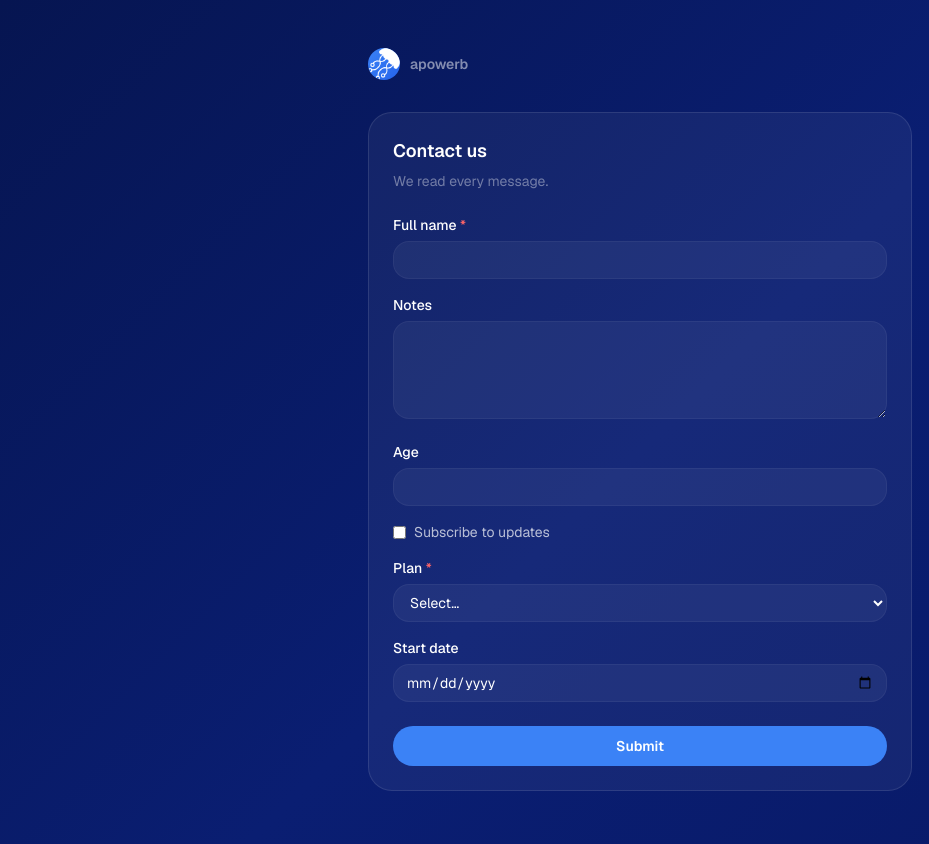
Test: WorkflowFormView › shows the server's 422 detail without losing the entered values
The image size is (929, 844).
Expected: the heading "Contact us" is shown, x1=393 y1=139 x2=487 y2=162
Type "Jamie Doe" into the field labelled "Full name *" at [640, 260], box x1=393 y1=241 x2=887 y2=279
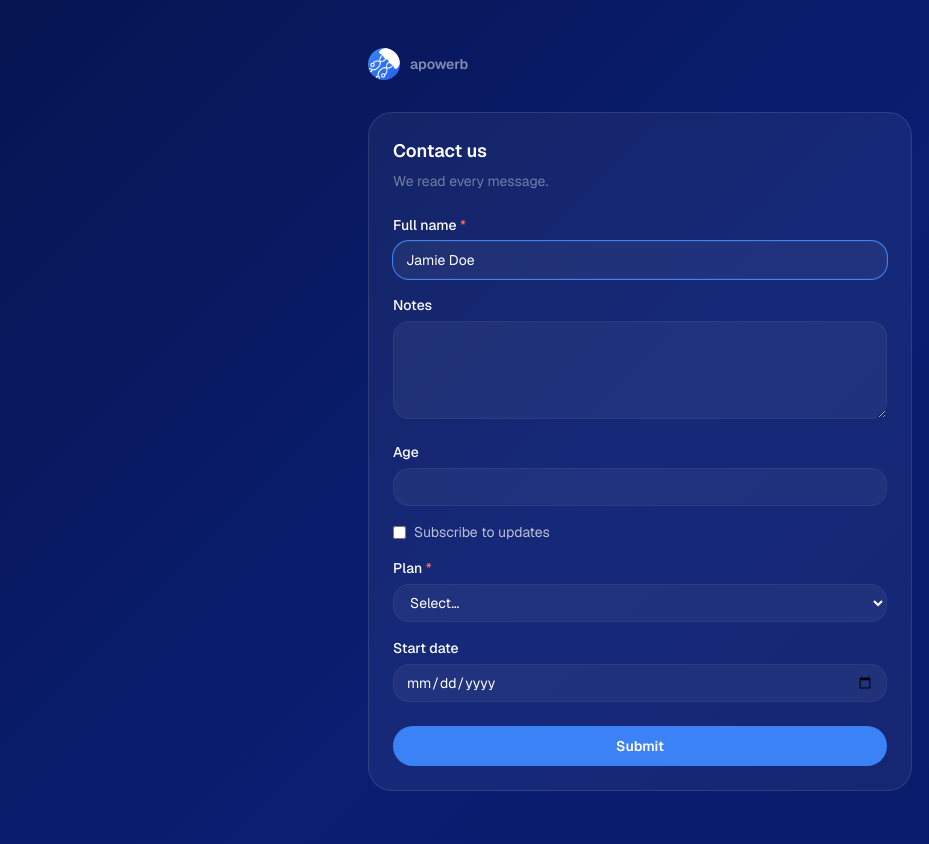
Select "pro" in the dropdown labelled "Plan *" at [640, 603], box x1=393 y1=584 x2=887 y2=622
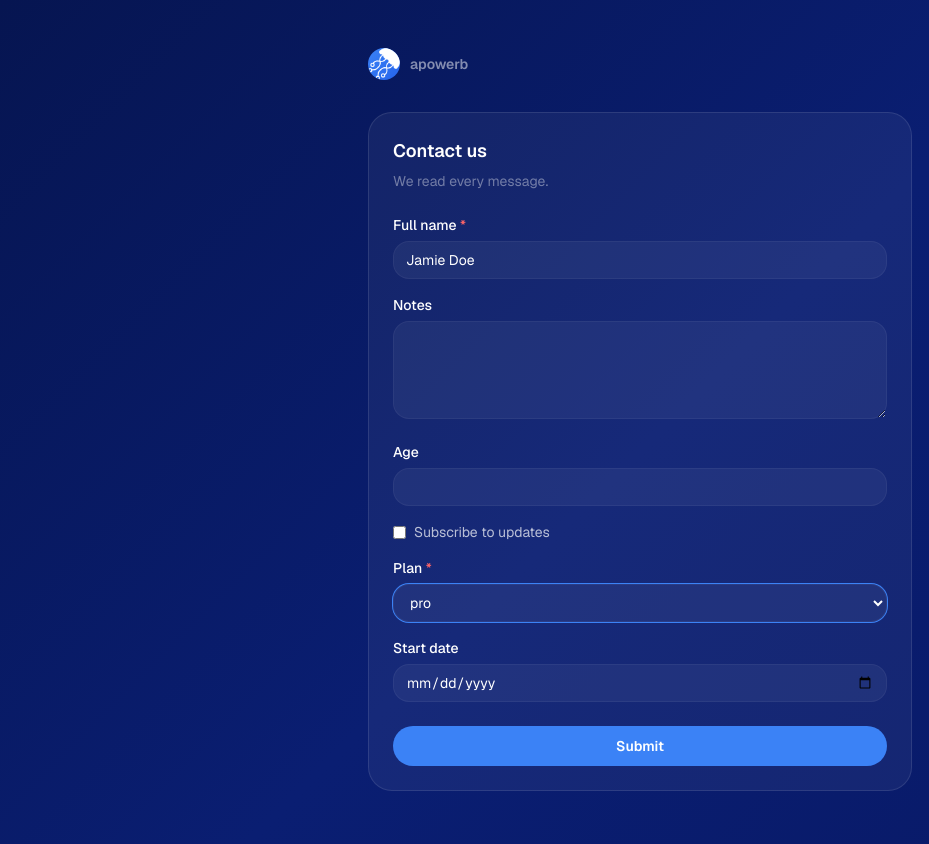
Click the button "Submit" at [640, 746], box x1=393 y1=726 x2=887 y2=766
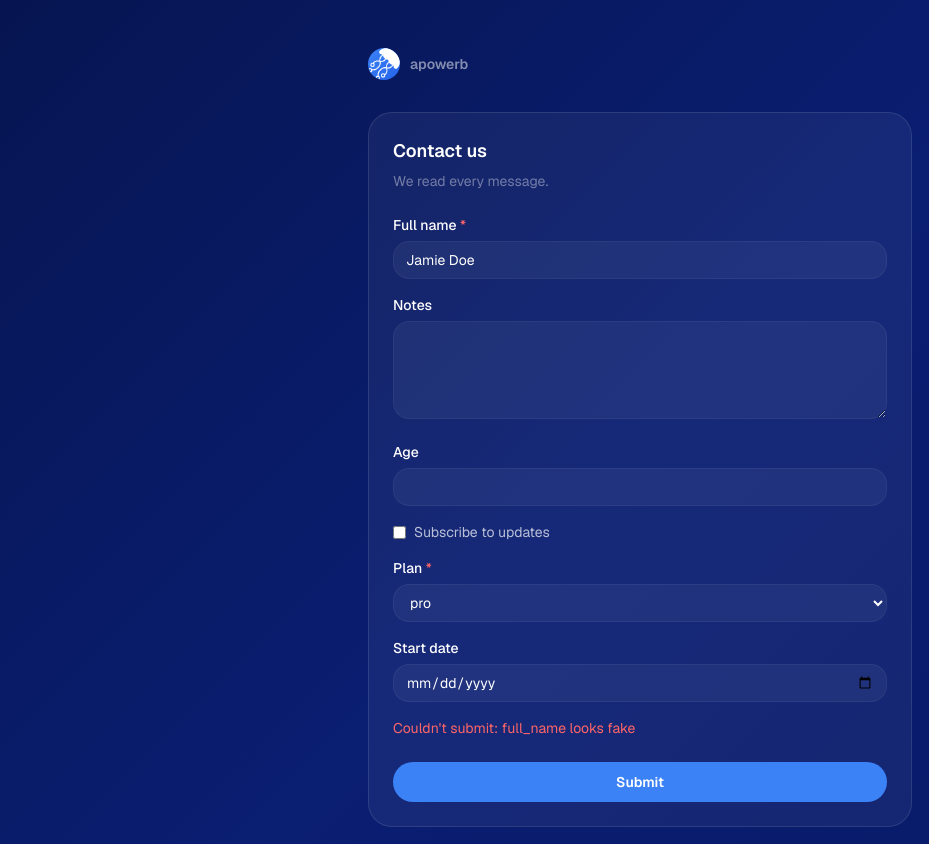
Expected: the text "Couldn't submit: full_name looks fake" is shown, x1=393 y1=719 x2=635 y2=737
